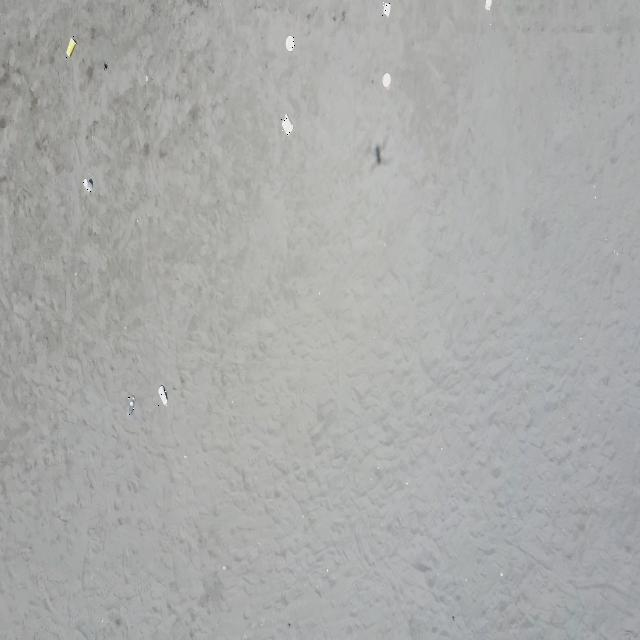take-away-containers: (281, 114, 293, 136), (382, 73, 391, 90), (285, 36, 295, 51), (382, 2, 391, 16), (485, 0, 492, 11)
takeaway-cup: (66, 36, 76, 58), (156, 386, 166, 406), (126, 396, 135, 417), (83, 180, 92, 193)
